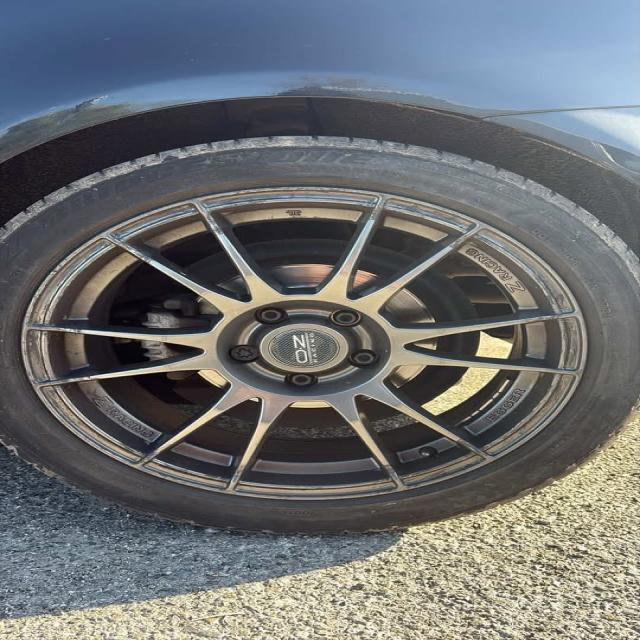jante: (21, 186, 590, 499)
parafuso: (317, 304, 371, 332), (242, 305, 296, 328), (220, 343, 266, 369), (281, 367, 324, 394), (342, 347, 387, 372)
roda: (0, 134, 640, 537)
